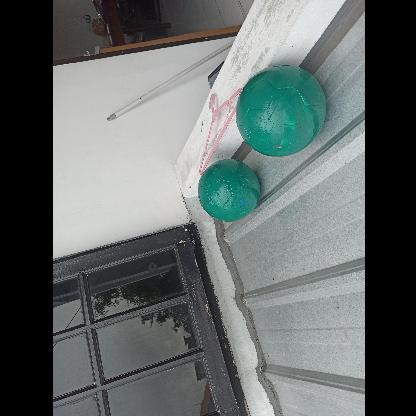green_ball: (234, 64, 326, 158), (195, 160, 259, 224)
